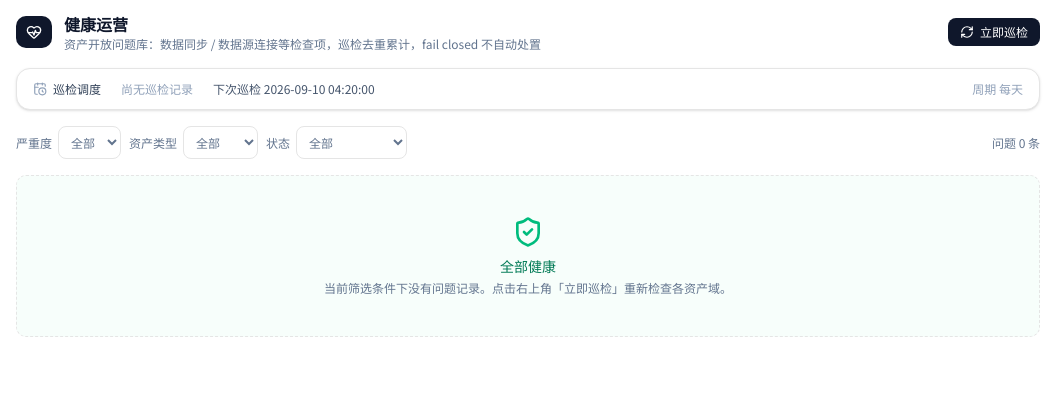
it: OpsPage 健康运营页 › 巡检带检查器错误时提示失败数量
Check: the element with test id "ops-empty" is shown, box [16, 175, 1040, 337]
Step 1. Click the button with test id "ops-inspect-button" → (994, 32), box [948, 18, 1040, 46]
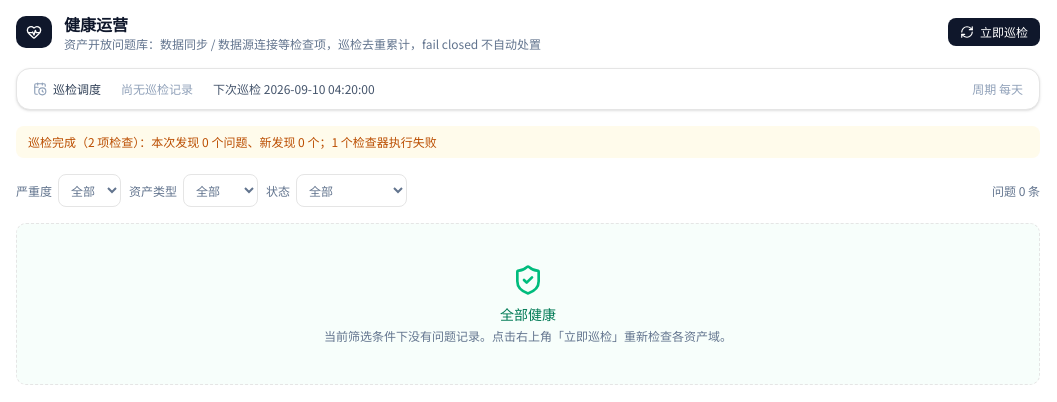
Check: the text with test id "ops-inspection-note" shows "1 个检查器执行失败", box [28, 133, 437, 150]
